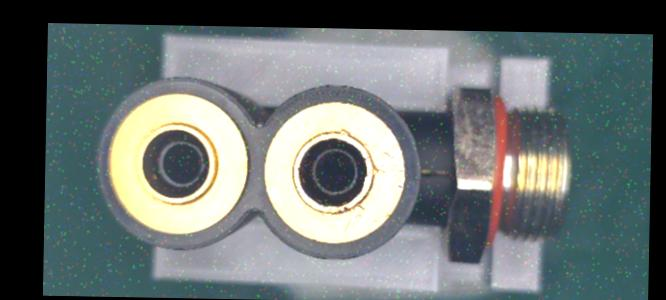craze: (419, 167, 456, 181)
